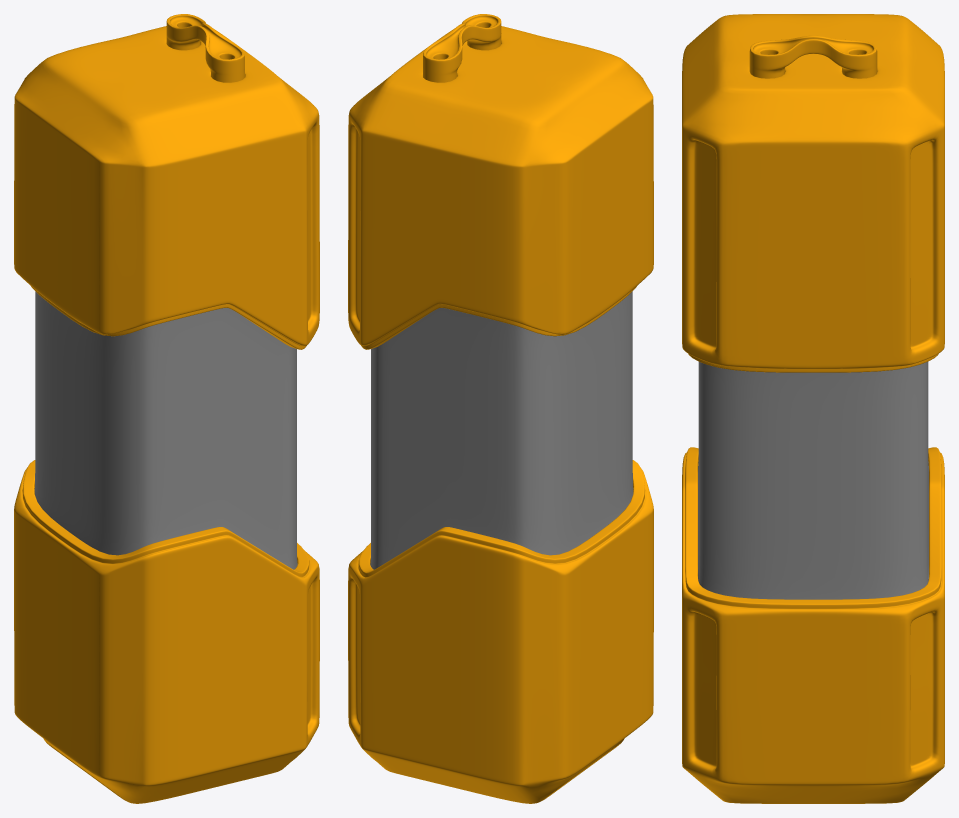
The model's file is Obsticale3.FBX.
3 views of the same model, side by side, from view 1: azimuth 30°, elevation 25°; view 2: azimuth 150°, elevation 25°; view 3: azimuth 270°, elevation 25° (orthographic). The views are drawn at different scales.
Parts seen in each view (by area): view 1: Hull; view 2: Hull; view 3: Hull.
Part boxes in pixels (x1,y1,x2,y2): Hull: (14,14,319,803); Hull: (348,14,653,803); Hull: (682,14,944,803).
Bounding box in the file's own units: 26.34 × 26.34 × 82.71.
